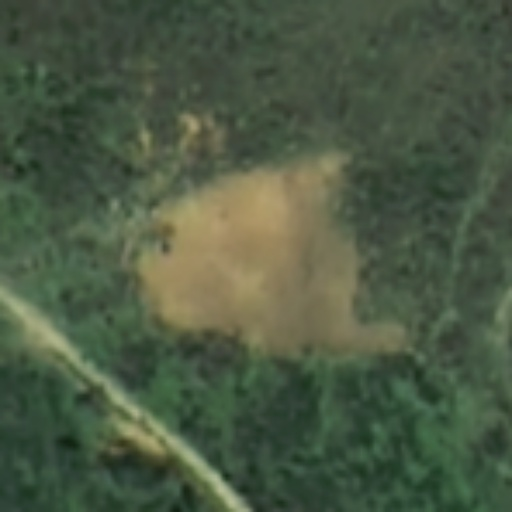landslide: (134, 152, 407, 352)
